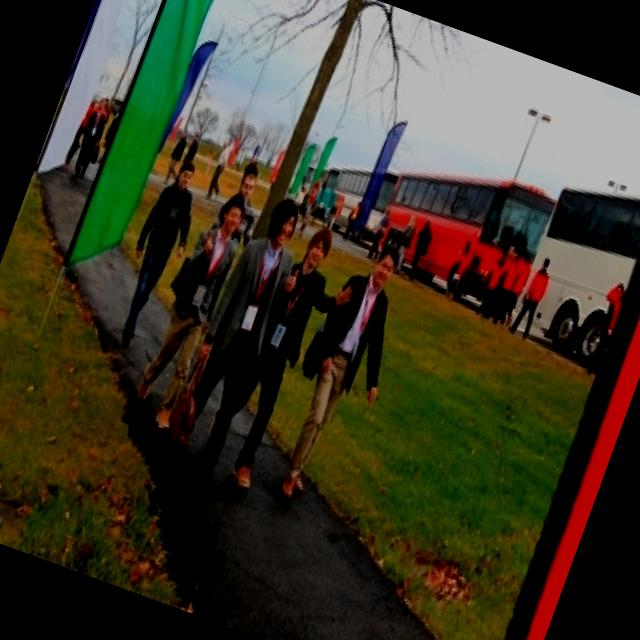Vehicle: (362, 139, 566, 325), (500, 157, 640, 371), (319, 157, 401, 250), (309, 165, 341, 219)
